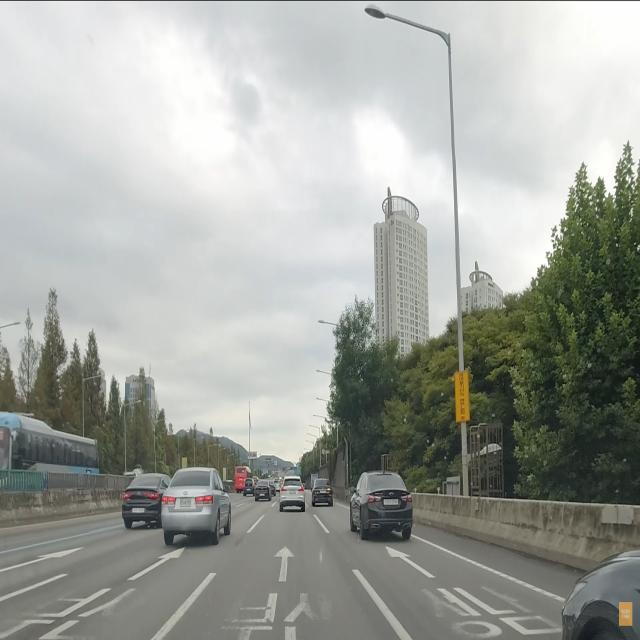forward: (197, 540, 368, 583)
